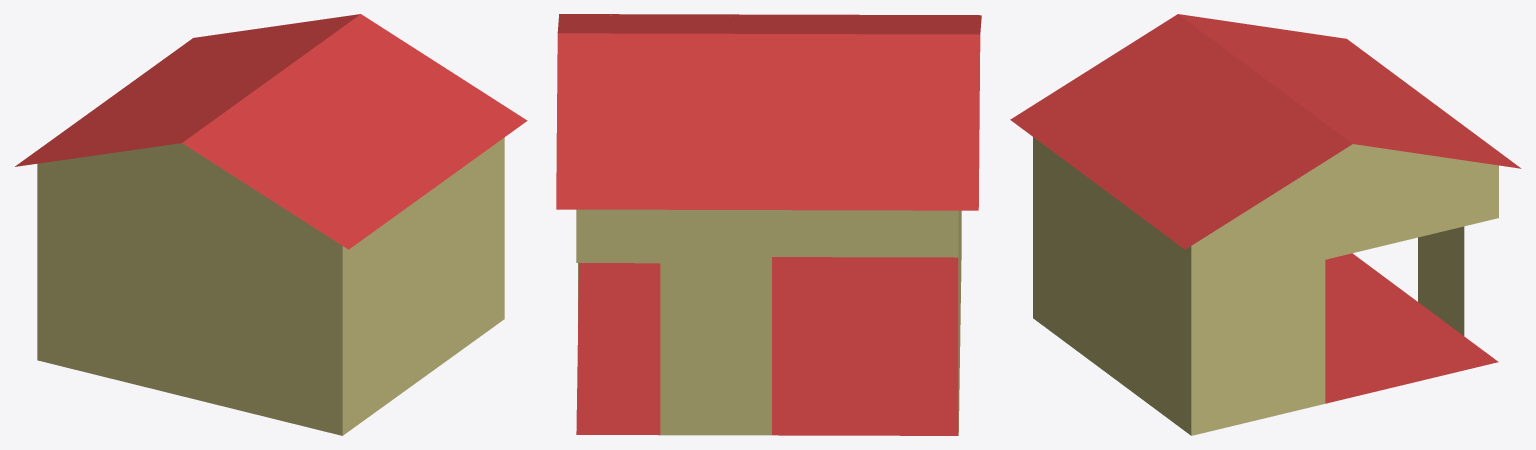
The picture shows the model from 3 angles, left to right: view 1: azimuth 30°, elevation 25°; view 2: azimuth 150°, elevation 25°; view 3: azimuth 270°, elevation 25°; orthographic projection. The views are drawn at different scales.
Size of the model in its own units: 22.18 by 22.74 by 12.81.
